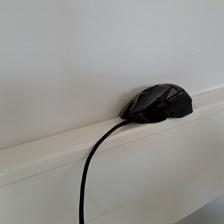mouse: (118, 81, 193, 125)
